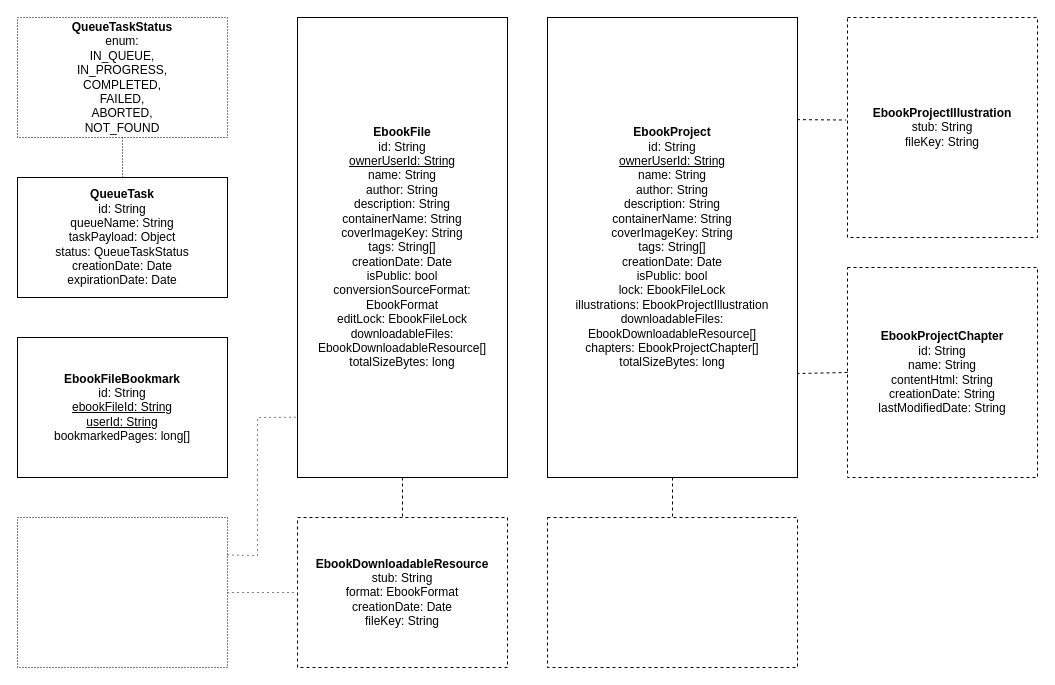
This 1055x685 diagram has some shape labels left out. The shapes that lost their labels are listed below. From the top down, each one's box as (x1, y1, x2, y2) in pixels, then its label:
(16, 516, 228, 668): EbookFormat enum: EPUB, MOBI, AZW3, PDF, TXT, HTML, DOCX
(546, 516, 798, 668): EbookFileLock isLocked: Boolean lockExpirationDate: Date
